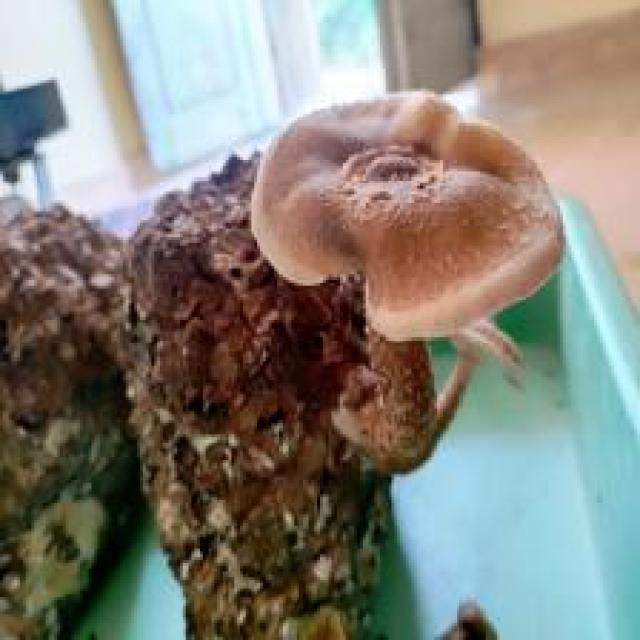field-mushroom: (248, 86, 568, 474)
